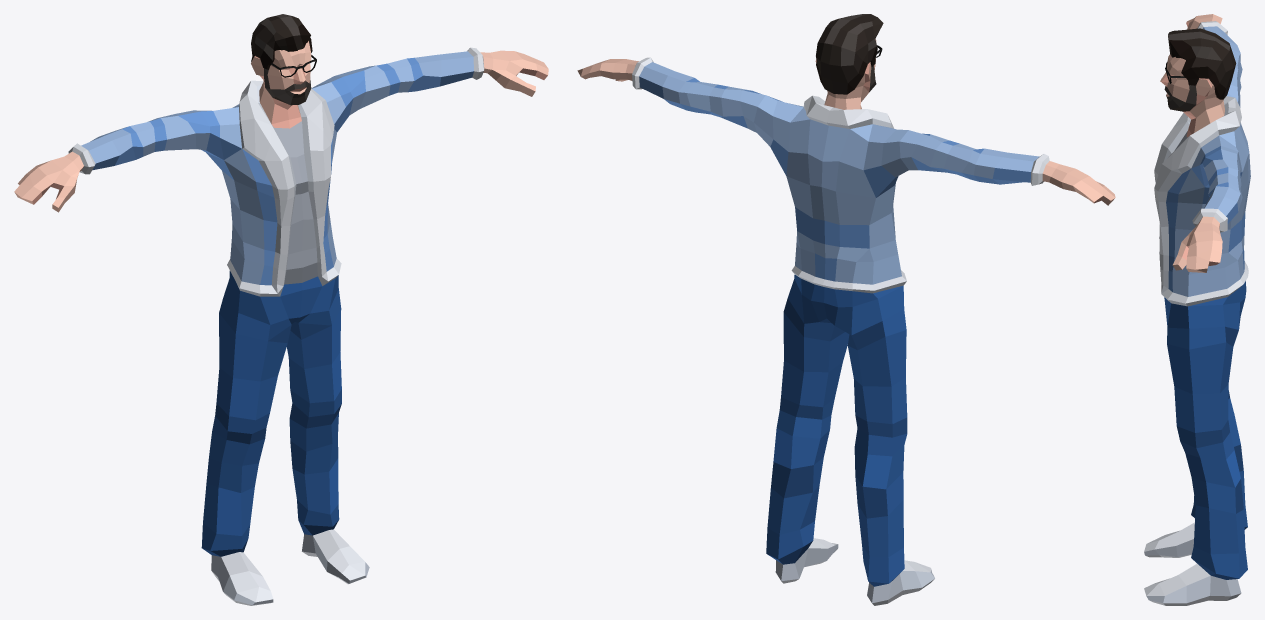
File: winter_Male_A-model.fbx
The picture shows the model from 3 angles, left to right: view 1: azimuth 30°, elevation 25°; view 2: azimuth 150°, elevation 25°; view 3: azimuth 270°, elevation 25°; orthographic projection. The views are drawn at different scales.
Parts seen in each view (by area): view 1: winter_Male_A, acc_mean_hair_hpstr; view 2: winter_Male_A, acc_mean_hair_hpstr; view 3: winter_Male_A, acc_mean_hair_hpstr.
Boxes of the visible parts, x1=… form: winter_Male_A: x1=14, y1=41, x2=548, y2=605; acc_mean_hair_hpstr: x1=251, y1=14, x2=312, y2=69; winter_Male_A: x1=577, y1=39, x2=1115, y2=605; acc_mean_hair_hpstr: x1=816, y1=14, x2=883, y2=94; winter_Male_A: x1=1144, y1=14, x2=1250, y2=605; acc_mean_hair_hpstr: x1=1168, y1=28, x2=1236, y2=99.
Size of the model in its own units: 182 by 183 by 32.64.
1 material, 1 textured.
